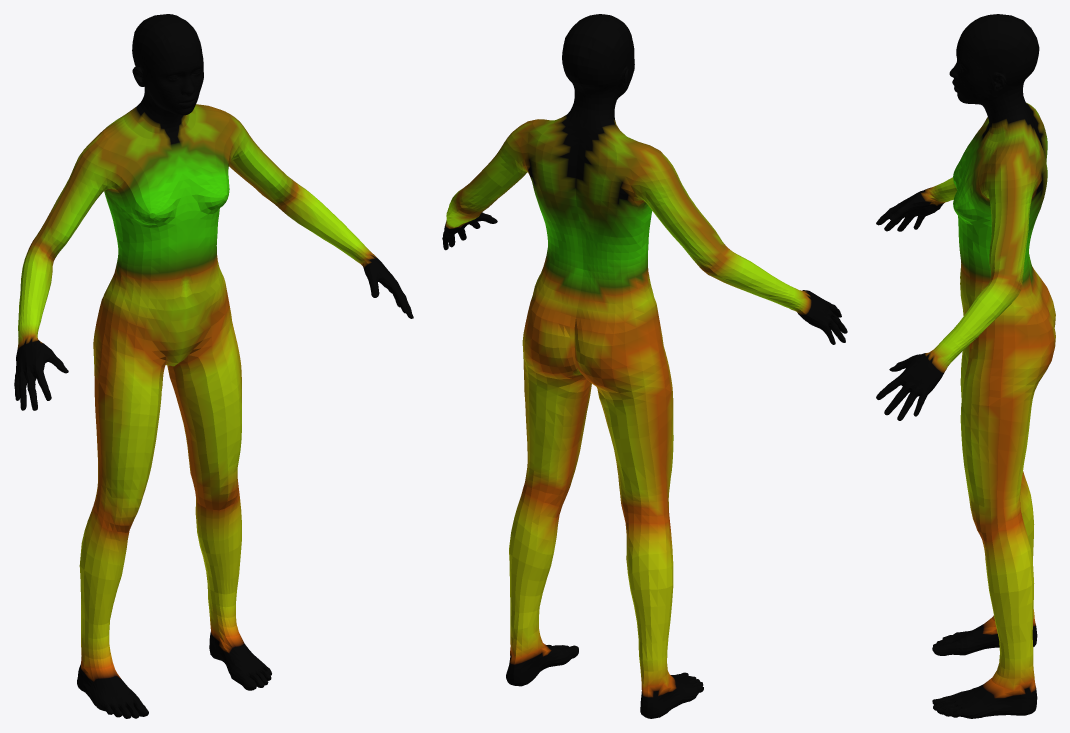
Rendered from female-average.glb.
3 renders of one model, left to right at view 1: azimuth 30°, elevation 25°; view 2: azimuth 150°, elevation 25°; view 3: azimuth 270°, elevation 25°, orthographic.
Parts seen in each view (by area): view 1: world; view 2: world; view 3: world.
Part boxes in pixels (box(x1,y1,x2,y2)): world: box(14, 14, 413, 718); world: box(442, 14, 847, 718); world: box(876, 14, 1055, 718).
Bounding box in the file's own units: 1.1 × 1.78 × 0.4379.
